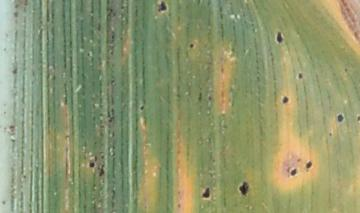tarspot: (237, 181, 250, 196), (155, 1, 168, 13), (97, 163, 107, 178), (274, 30, 284, 44), (201, 186, 211, 199), (288, 167, 298, 179), (6, 123, 16, 134), (195, 91, 204, 103), (280, 95, 290, 105), (304, 159, 312, 171), (10, 67, 19, 76), (107, 115, 116, 124), (336, 113, 344, 123), (12, 10, 20, 20), (138, 104, 146, 113), (87, 161, 96, 169), (108, 33, 116, 42), (341, 66, 349, 74), (296, 72, 303, 81), (206, 94, 213, 102), (98, 153, 105, 161), (1, 199, 7, 208), (85, 50, 91, 59), (92, 153, 98, 162), (327, 130, 333, 138), (188, 42, 194, 49), (119, 4, 125, 10), (108, 7, 113, 14), (356, 115, 360, 123), (196, 1, 201, 5)
